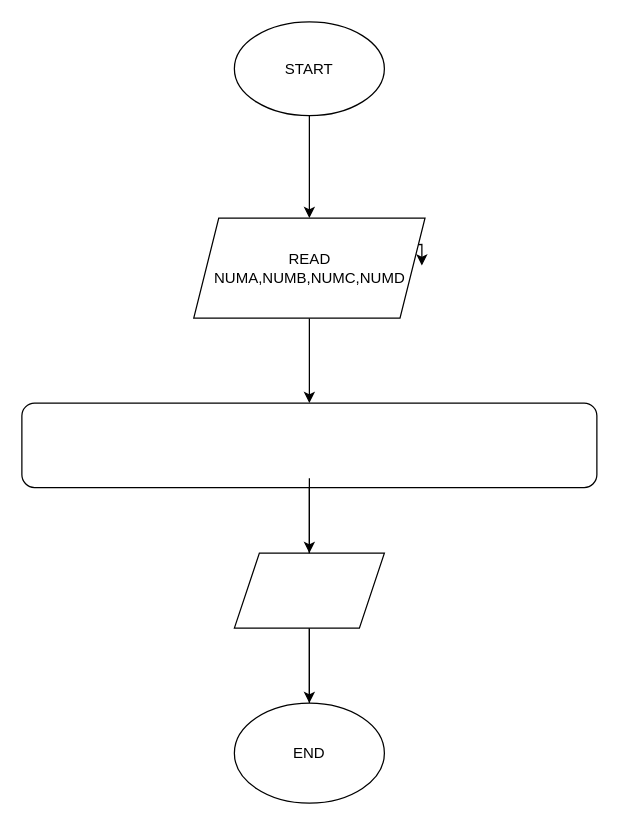
Image size: 619x825. Some labels were removed from this diagram. The shapes that lost their labels are listed below. From the top down, each one's centre as x and y in pixels, then its label:
At point (309, 445): "SUM NUMA 2 +NUMB 2 +NUMC 2 +NUMD 2".
At point (308, 590): "WRITE SUM".
